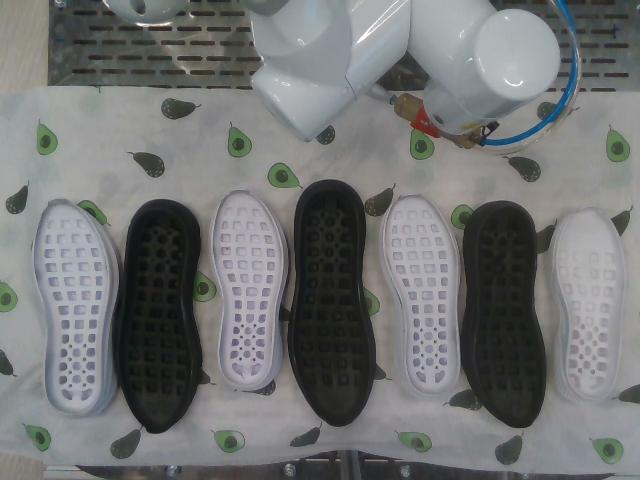shoes: (294, 189, 369, 426), (119, 208, 191, 432), (34, 198, 108, 415), (475, 206, 545, 427), (384, 194, 458, 394), (213, 190, 282, 387), (557, 207, 624, 398)
